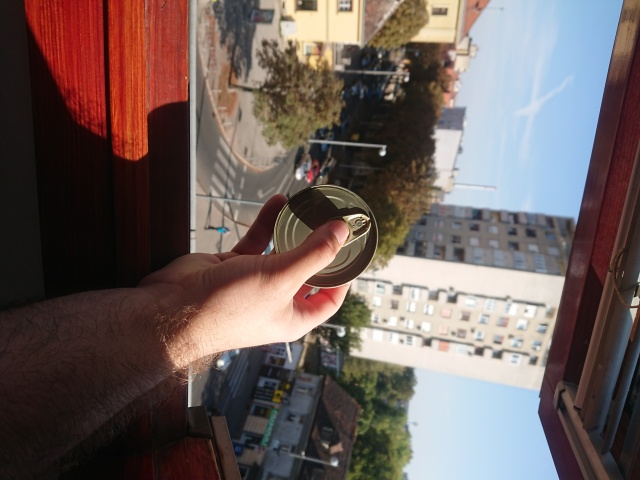Gavrilovic Pork Liver Pate 100g: (270, 180, 380, 290)
